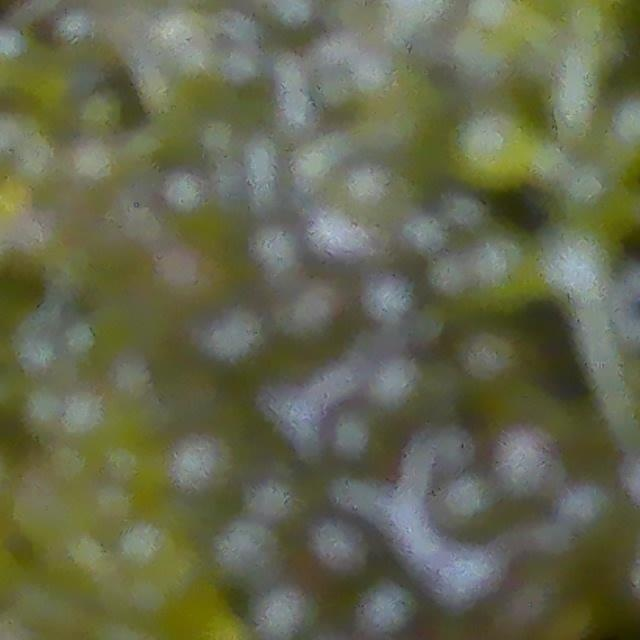SeaGrape: (481, 420, 584, 508), (274, 266, 355, 347), (321, 402, 400, 480), (303, 520, 384, 592), (433, 475, 509, 549), (346, 580, 428, 640)
